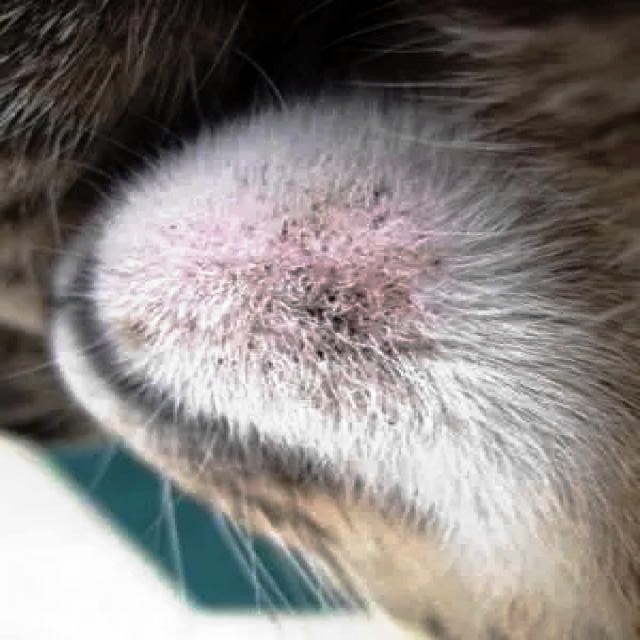acne: (210, 185, 460, 384)
